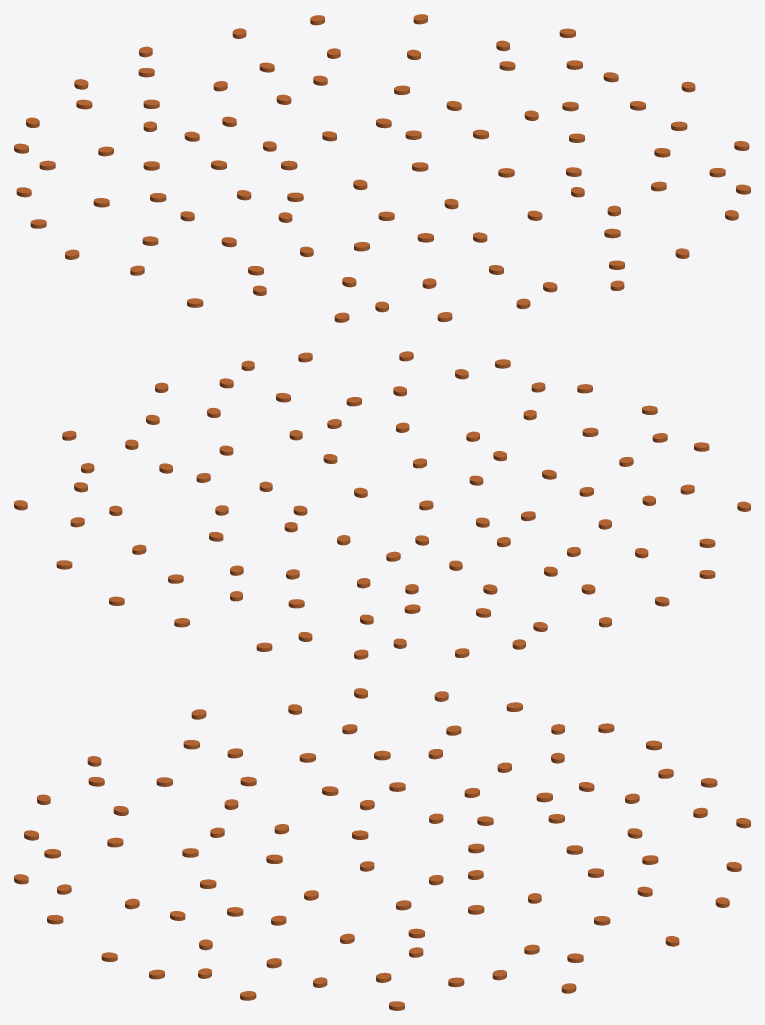
Rendered from beef.glb.
3 views of the same model, one above another, from view 1: azimuth 30°, elevation 25°; view 2: azimuth 150°, elevation 25°; view 3: azimuth 270°, elevation 25° (orthographic). The views are drawn at different scales.
Visible parts, largest first — view 1: polySurface157; view 2: polySurface157; view 3: polySurface157.
Boxes of the visible parts, box(x1,y1,x2,y2) form: polySurface157: box(14, 14, 750, 322); polySurface157: box(14, 351, 750, 659); polySurface157: box(14, 688, 750, 1010).
Size of the model in its own units: 0.3529 by 0.002 by 0.3447.
